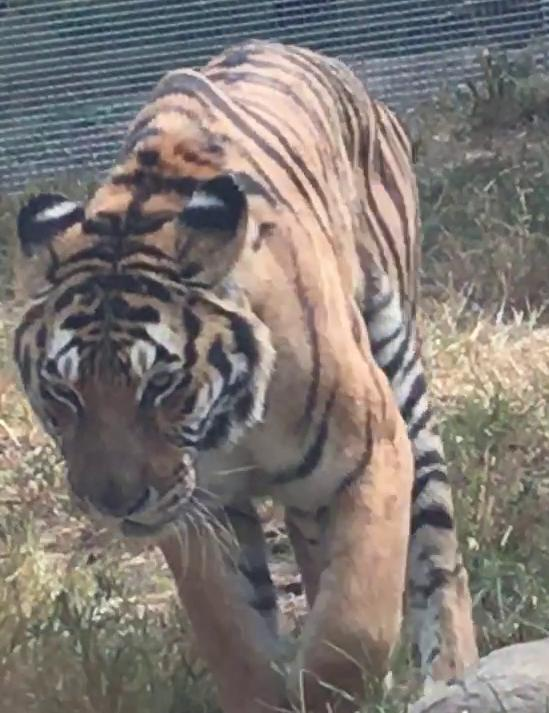tiger: (14, 42, 476, 712)
